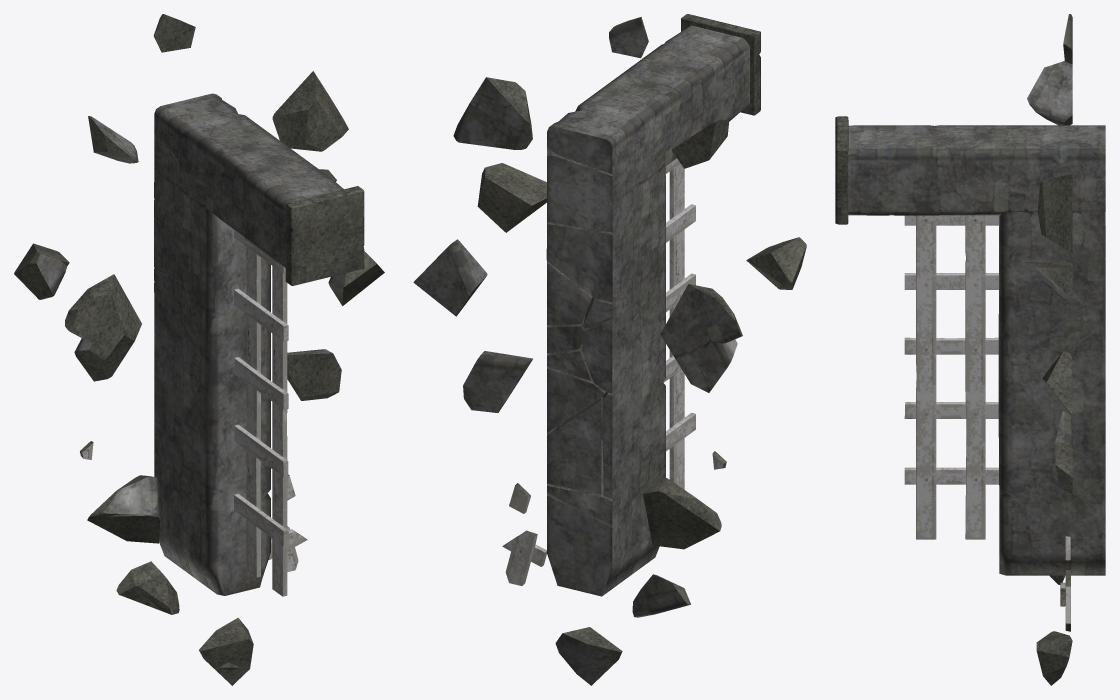
The model's file is hd_env_101_RockWall_01.glb.
3 views of the same model, side by side, from view 1: azimuth 30°, elevation 25°; view 2: azimuth 150°, elevation 25°; view 3: azimuth 270°, elevation 25° (orthographic). The views are drawn at different scales.
Parts seen in each view (by area): view 1: set_0_group_1, set_0_group_0; view 2: set_0_group_0, set_0_group_1; view 3: set_0_group_1, set_0_group_0.
Part boxes in pixels (x1,y1,x2,y2): set_0_group_1: [154, 93, 364, 596]; set_0_group_0: [14, 14, 384, 685]; set_0_group_0: [413, 17, 806, 685]; set_0_group_1: [547, 14, 760, 596]; set_0_group_1: [835, 116, 1105, 575]; set_0_group_0: [1024, 14, 1105, 685].
Bounding box in the file's own units: 3.77 × 6.57 × 2.5.
2 materials, 2 textured.
